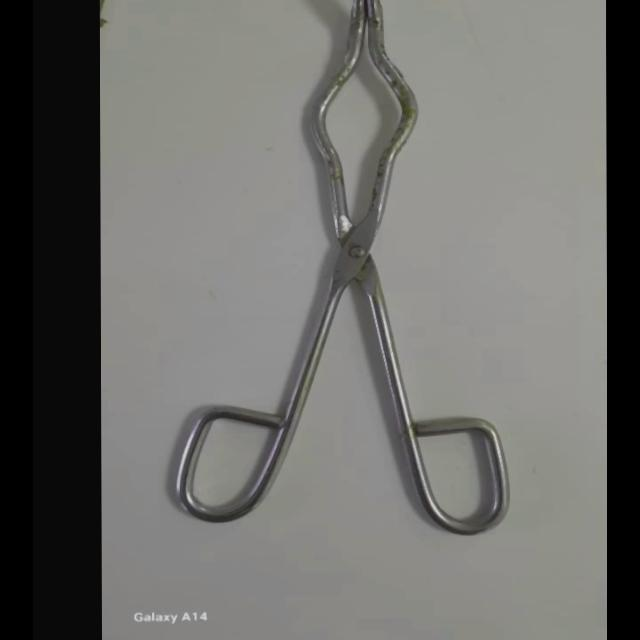Tongue: (158, 0, 527, 541)
